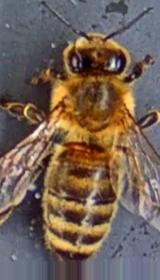varroa_mite: (61, 135, 97, 156)
